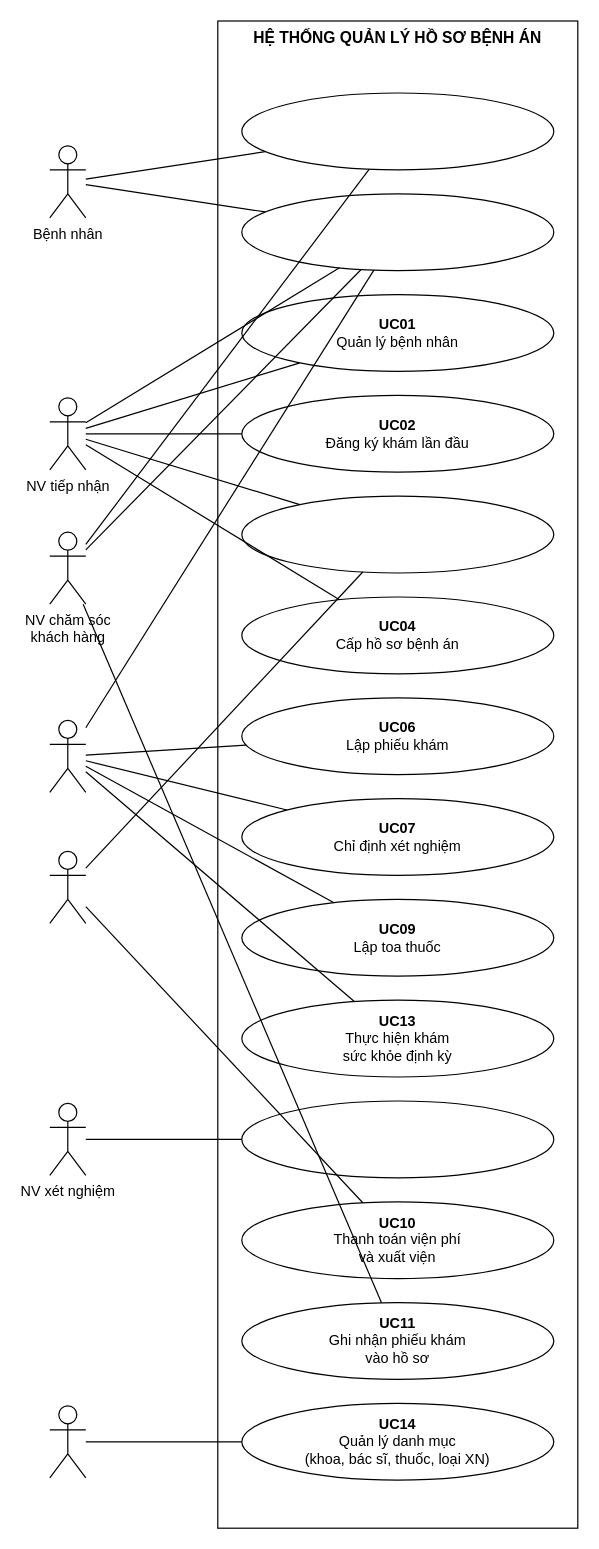
Some shapes in this 599 by 1549 pixel diagram are drawn without their labels. The box of each missing label's shape, as (x1, y1, x2, y2) in pixels:
Bác sĩ: (49, 719, 86, 792)
Quản trị: (49, 1405, 86, 1478)
Thu ngân: (49, 850, 86, 923)
UC03 Thu lệ phí hằng năm: (241, 495, 554, 573)
UC05 Tra cứu hồ sơ bệnh án: (241, 193, 554, 271)
UC08 Ghi kết quả xét nghiệm: (241, 1100, 554, 1178)
UC12 Đặt lịch khám định kỳ: (241, 92, 554, 170)
